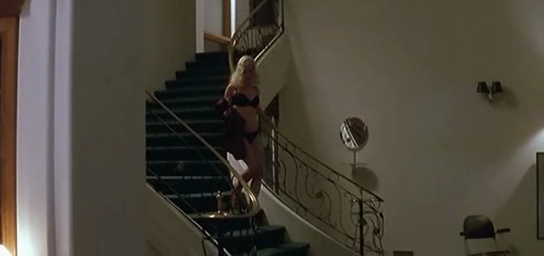face: (241, 64, 255, 83)
ls: (1, 1, 544, 256)
person: (224, 55, 278, 213)
